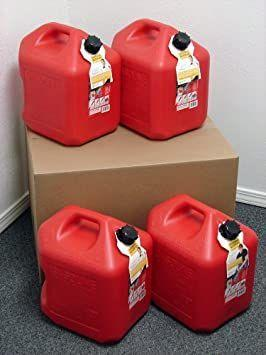HDPE: (36, 202, 156, 346), (146, 193, 260, 334), (18, 21, 122, 147), (111, 18, 210, 142), (219, 218, 243, 242), (115, 223, 140, 246), (83, 34, 104, 55), (172, 30, 192, 52)
